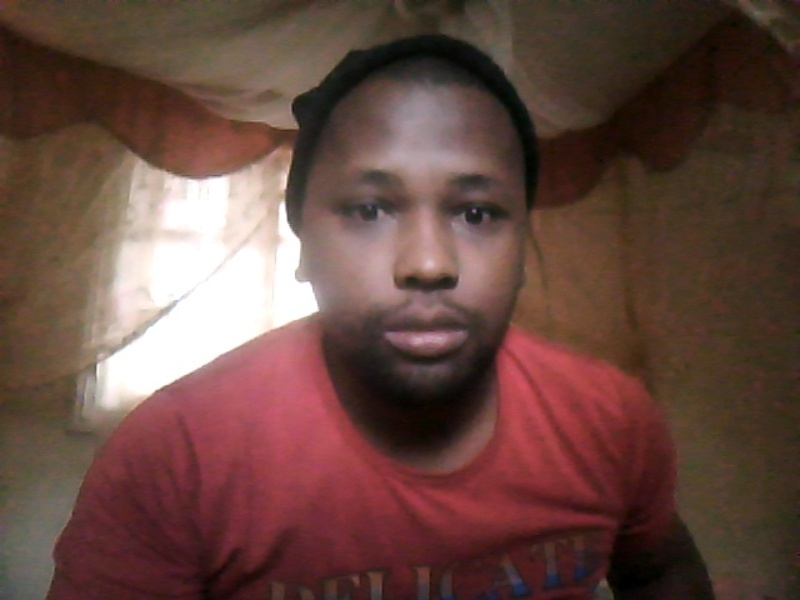TsisyArotava: (279, 44, 542, 410)
